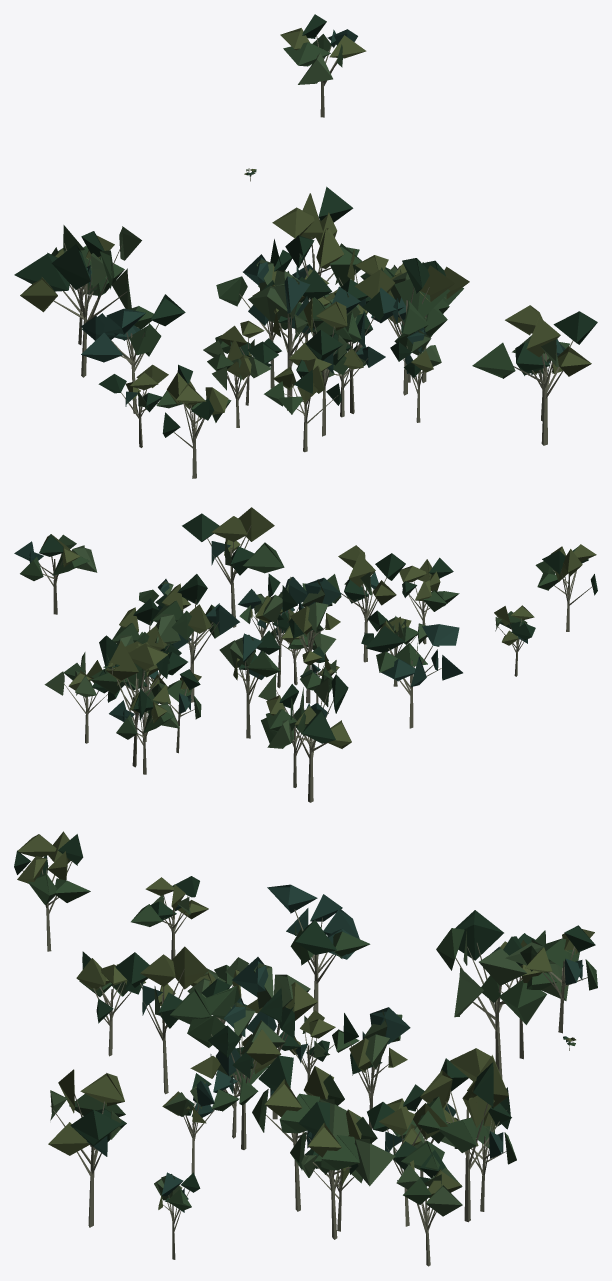
File: forest_24_23.dae
3 renders of one model, top to bottom at view 1: azimuth 30°, elevation 25°; view 2: azimuth 150°, elevation 25°; view 3: azimuth 270°, elevation 25°, orthographic. The views are drawn at different scales.
Parts seen in each view (by area): view 1: Node; view 2: Node; view 3: Node.
Boxes of the visible parts, x1,y1,x2,y2 form: Node: (14,14,597,478); Node: (14,507,597,802); Node: (14,831,597,1266).
Bounding box in the file's own units: 11.38 × 11.13 × 6.87.
